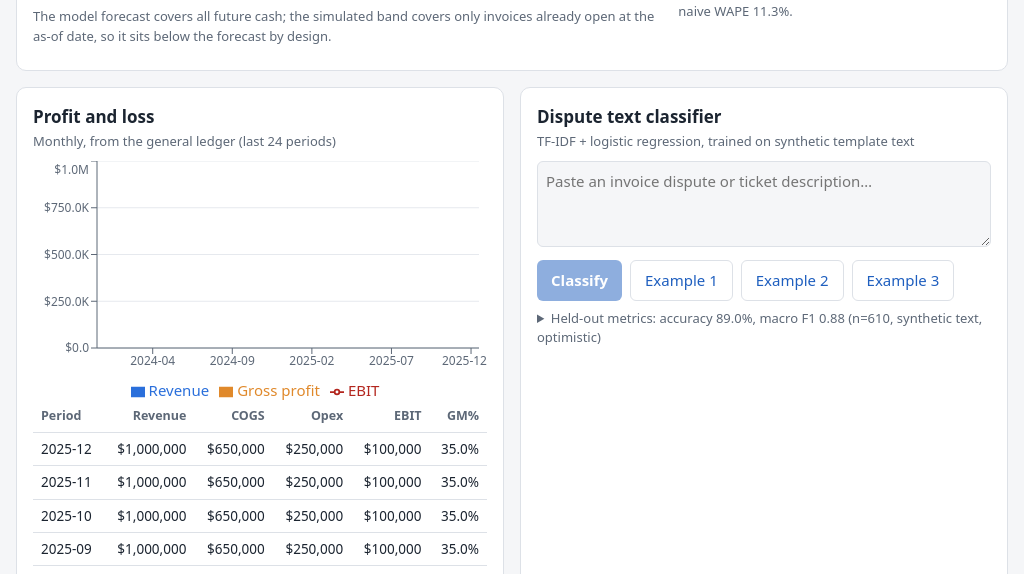
Test case: dashboard › classifies pasted text and shows the label
(page scrolled)
Expected: the button "Classify" is disabled, left=537, top=260, right=622, bottom=301
Type "billed twice for the same order" into the text box with placeholder "Paste an invoice dispute or ticket description…" at (764, 204), box left=537, top=161, right=991, bottom=247
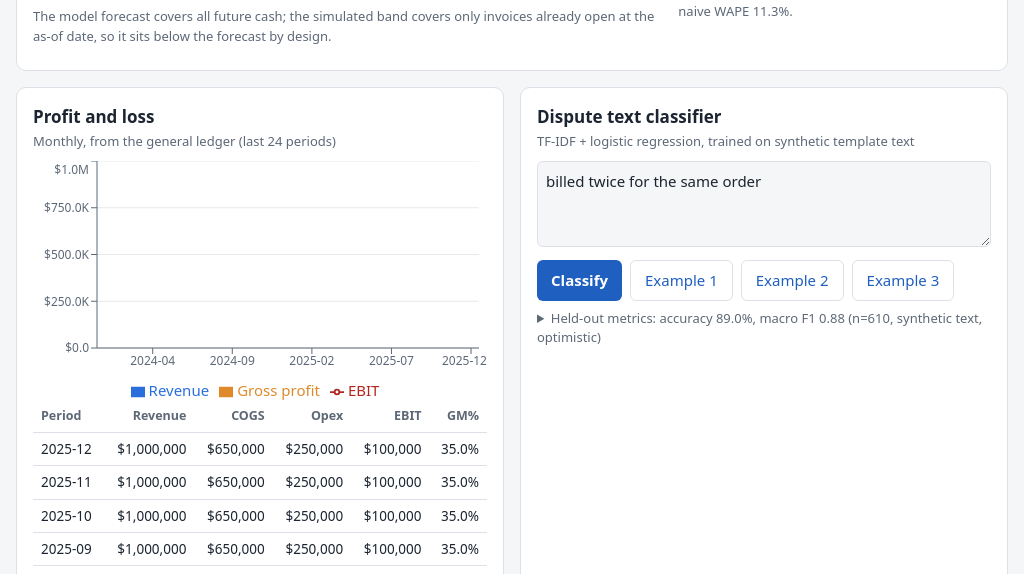
Now the button "Classify" is enabled
Click the button "Classify" at (580, 281), box left=537, top=260, right=622, bottom=301
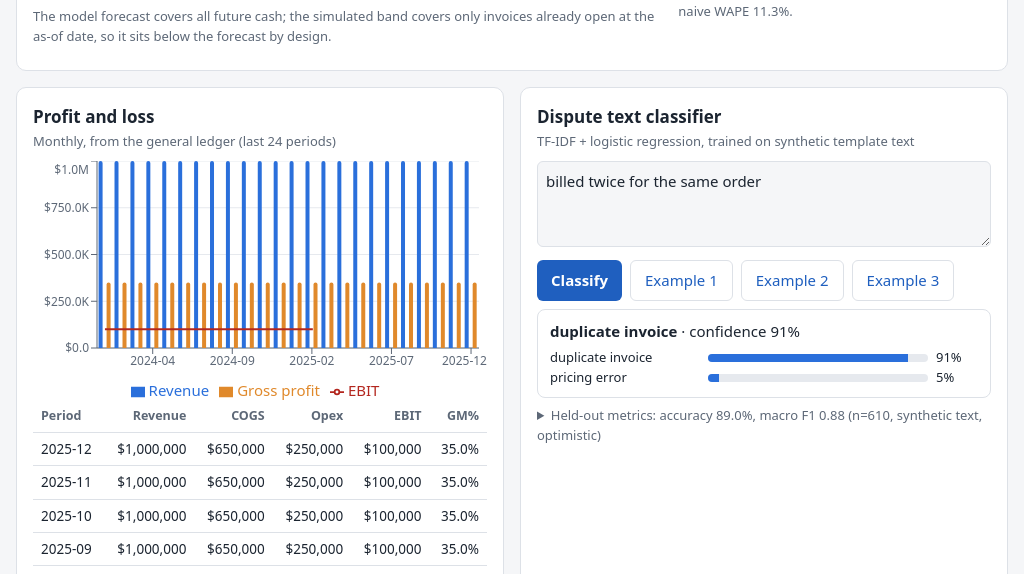
Now the text "duplicate invoice" next to "· confidence" is shown, box left=550, top=321, right=678, bottom=341
Now the text "duplicate invoice · confidence 91%" is shown, box left=550, top=321, right=800, bottom=341
